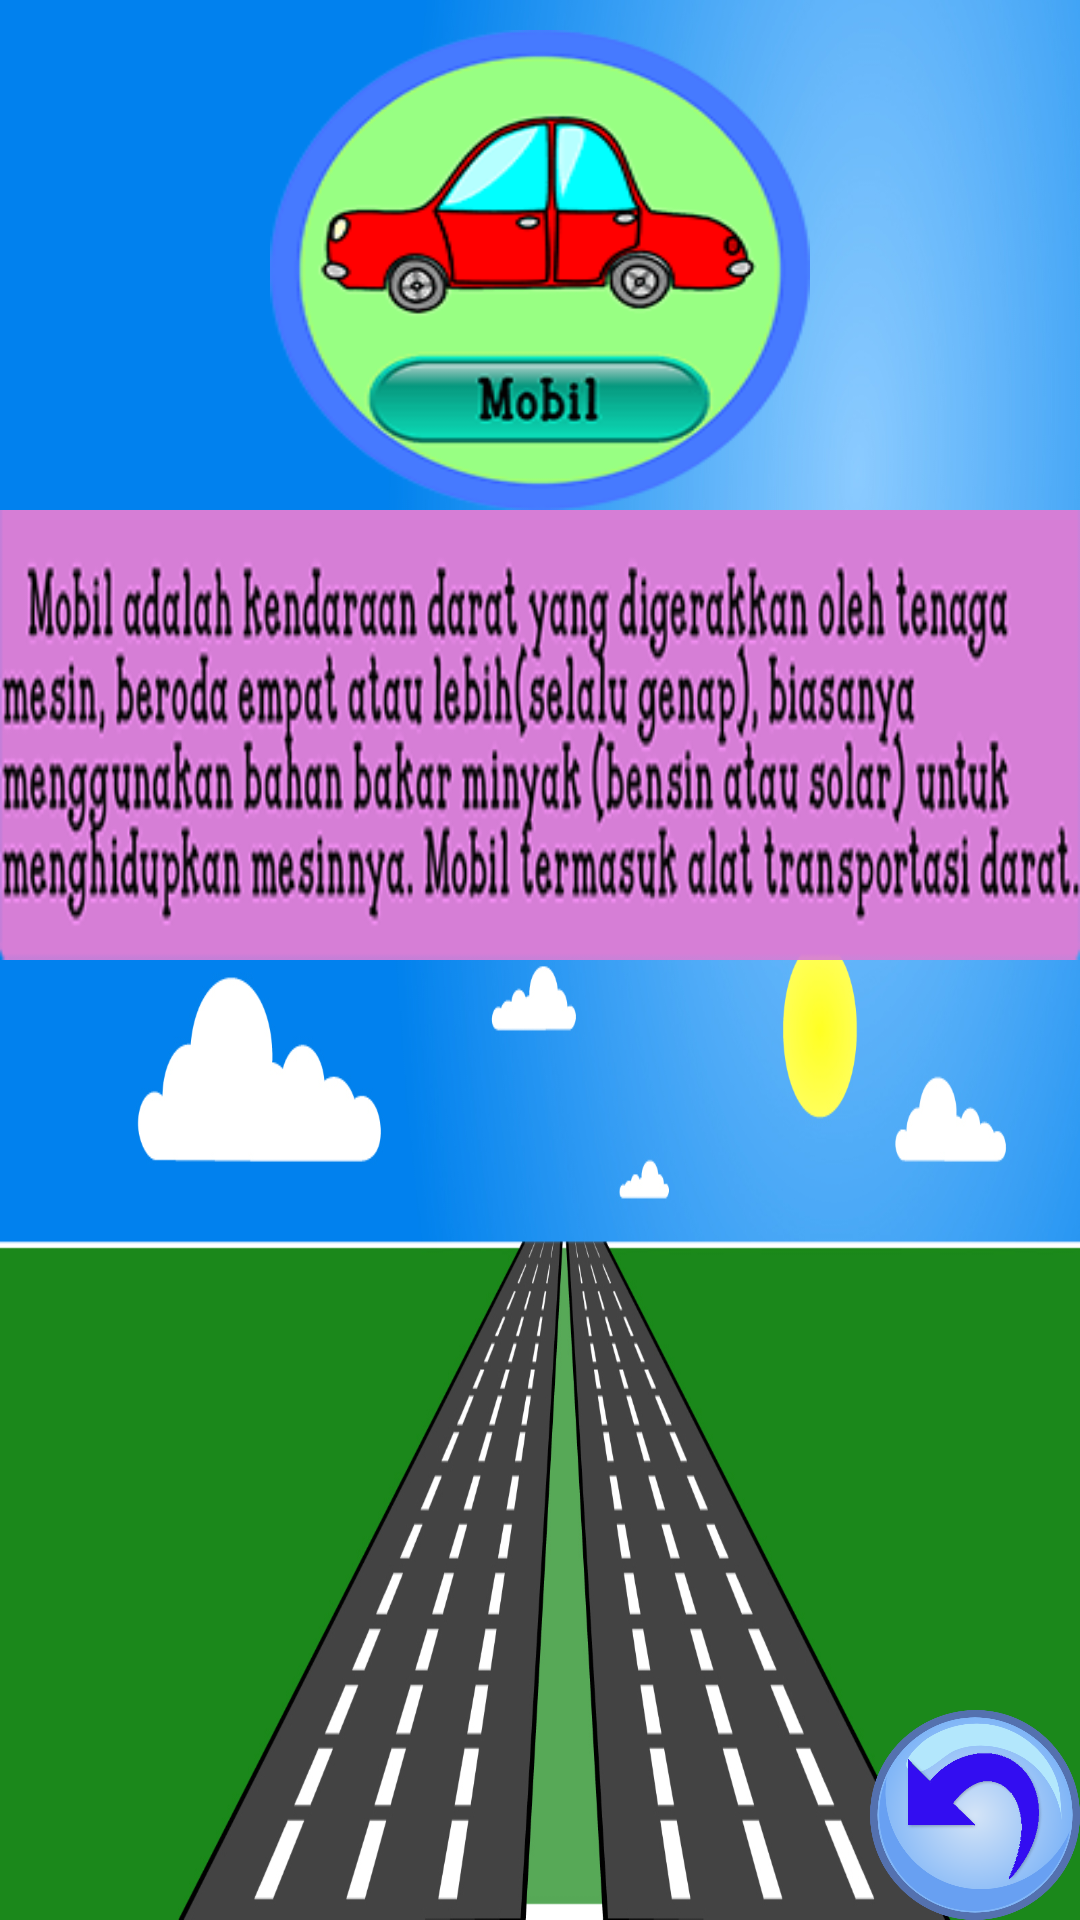

Where to tap for icons on this 1080px×1920px app screen, as (x=x, y=y):
back: (x=975, y=1815)
